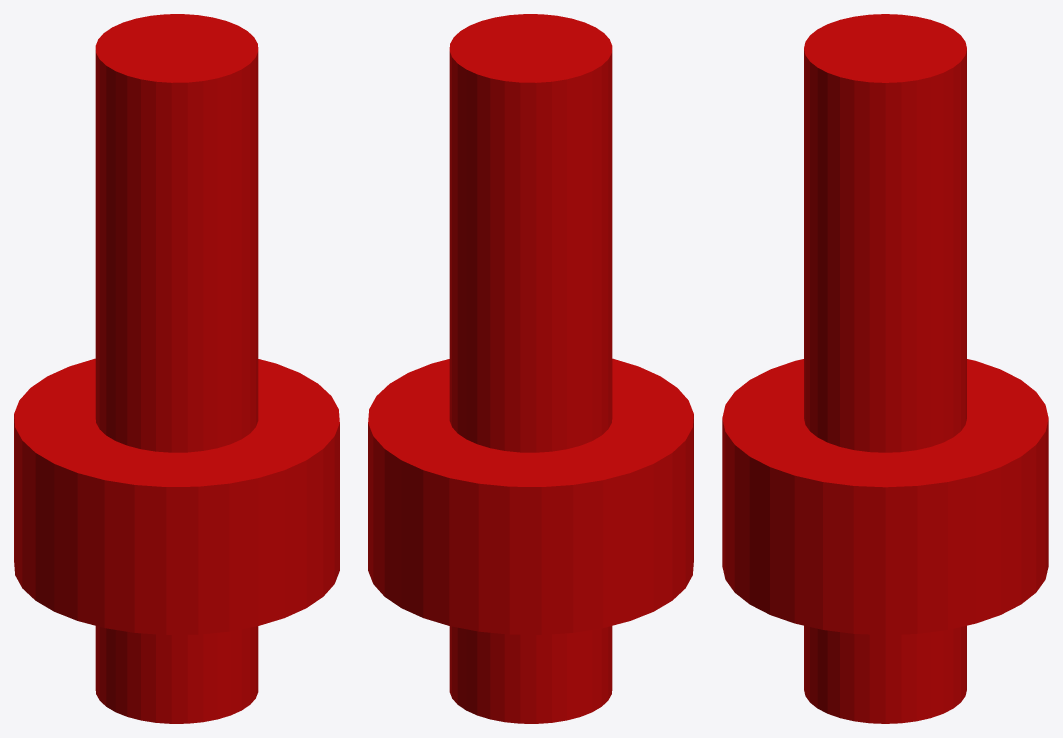
The model's file is RED_BUOY.dae.
3 views of the same model, side by side, from view 1: azimuth 30°, elevation 25°; view 2: azimuth 150°, elevation 25°; view 3: azimuth 270°, elevation 25° (orthographic).
Parts seen in each view (by area): view 1: Cylinder_001, Cylinder; view 2: Cylinder_001, Cylinder; view 3: Cylinder_001, Cylinder.
Boxes of the visible parts, box(x1,y1,x2,y2) form: Cylinder_001: box(95, 14, 258, 723); Cylinder: box(14, 358, 339, 634); Cylinder_001: box(449, 14, 612, 723); Cylinder: box(368, 358, 693, 634); Cylinder_001: box(804, 14, 966, 723); Cylinder: box(722, 359, 1048, 635).
Size of the model in its own units: 1.2 by 1.2 by 2.6.
